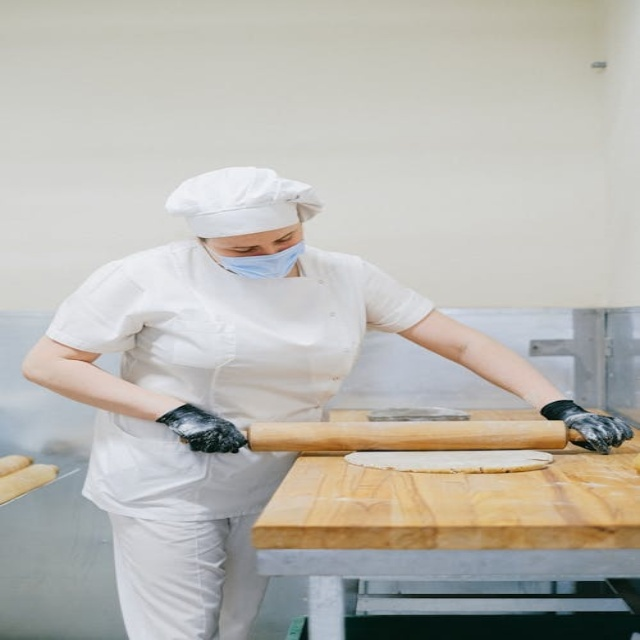Guantes: (540, 399, 636, 454), (155, 403, 248, 454)
Mascara: (208, 234, 306, 280)
Sin_gafas: (215, 227, 301, 255)
